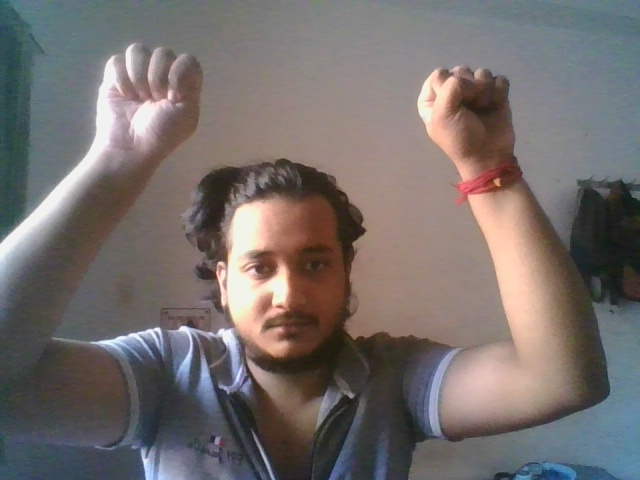Close: (94, 42, 202, 156), (416, 63, 521, 158)
